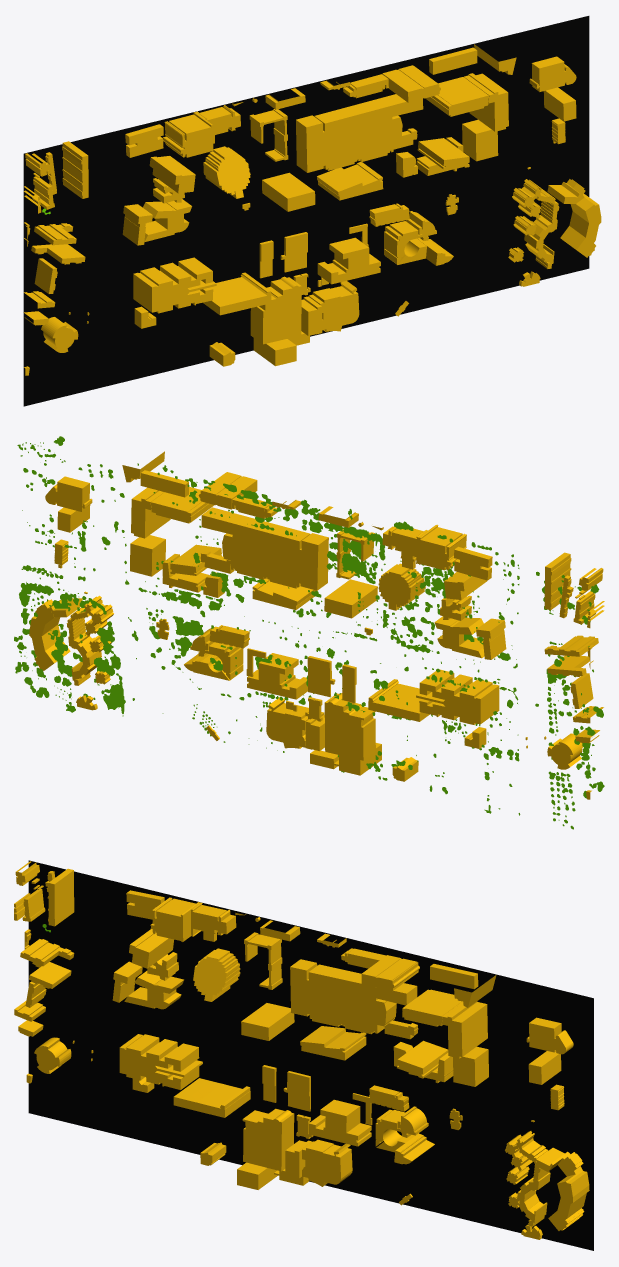
Rendered from existing_buildings_09.glb.
The picture shows the model from 3 angles, top to bottom: view 1: azimuth 30°, elevation 25°; view 2: azimuth 150°, elevation 25°; view 3: azimuth 330°, elevation 25°; orthographic projection.
Parts seen in each view (by area): view 1: Layer 04, existing_building, existing_building - Copy; view 2: existing_building, treesurface, existing_building - Copy; view 3: Layer 04, existing_building, existing_building - Copy.
Boxes of the visible parts, x1,y1,x2,y2 form: Layer 04: (23, 16, 589, 406); existing_building: (24, 44, 601, 375); existing_building - Copy: (31, 74, 585, 314); existing_building: (29, 451, 604, 799); treesurface: (14, 436, 604, 829); existing_building - Copy: (35, 495, 586, 740); Layer 04: (28, 860, 593, 1250); existing_building: (14, 861, 589, 1239); existing_building - Copy: (32, 871, 583, 1208).
Size of the model in its own units: 1035 by 458 by 78.19.
